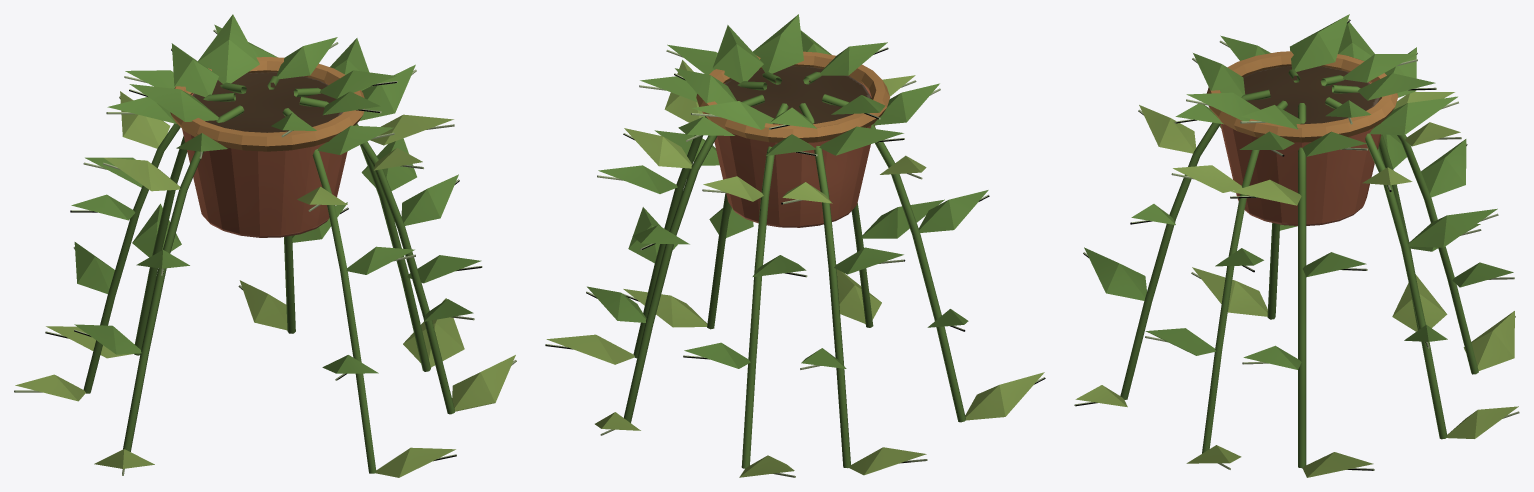
The model's file is 28_Shelf_Trailing_Plant.fbx.
3 views of the same model, side by side, from view 1: azimuth 30°, elevation 25°; view 2: azimuth 150°, elevation 25°; view 3: azimuth 270°, elevation 25° (orthographic). The views are drawn at different scales.
Visible parts, largest first — view 1: 28_Shelf_Trailing_Plant; view 2: 28_Shelf_Trailing_Plant; view 3: 28_Shelf_Trailing_Plant.
Part boxes in pixels (x1,y1,x2,y2): 28_Shelf_Trailing_Plant: (14,14,516,477); 28_Shelf_Trailing_Plant: (545,14,1045,477); 28_Shelf_Trailing_Plant: (1074,14,1519,477).
Bounding box in the file's own units: 92.03 × 70.64 × 87.35.
Materials: 1 (1 with a texture image).
